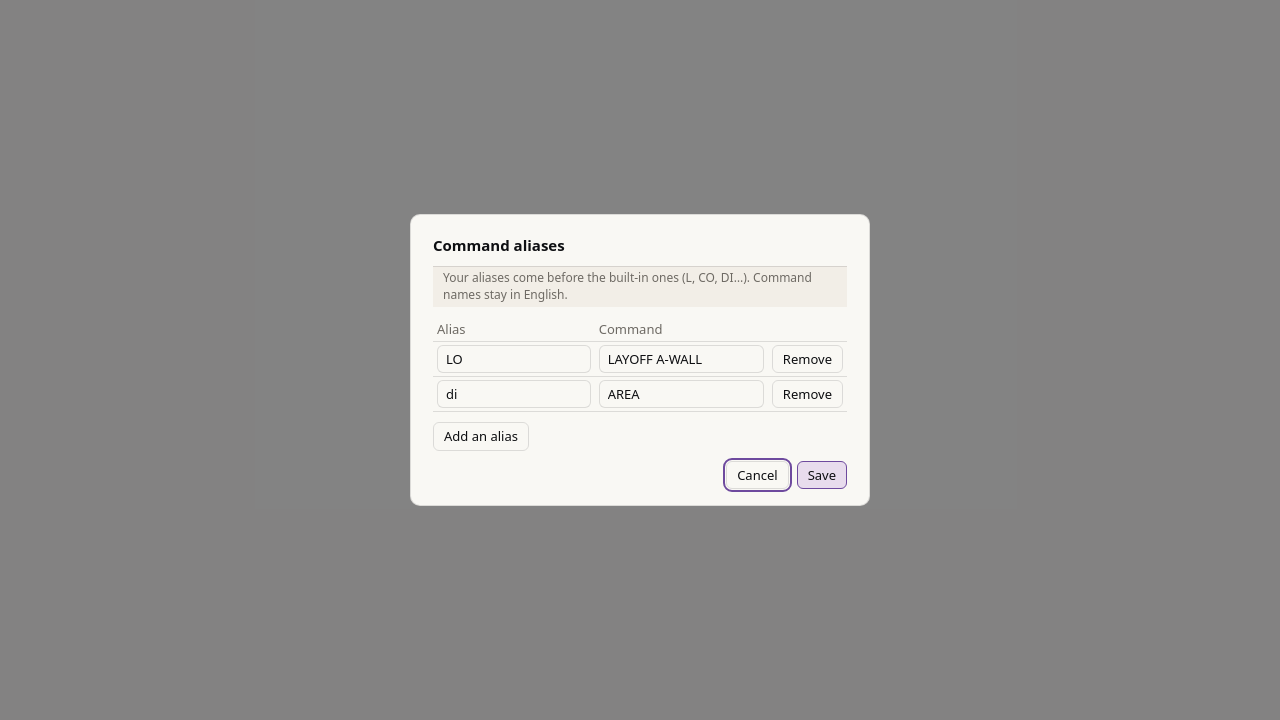
Test: an alias that is a command's own name, or one word short of a command, is refused
Expected: the field named "Alias 1" is shown, [437,345,591,373]
Replace the text in the field named "Alias 2" with "Line" at {"x": 514, "y": 394}, box [437,380,591,408]
Click the button "Save" at {"x": 822, "y": 475}, box [797,461,847,489]
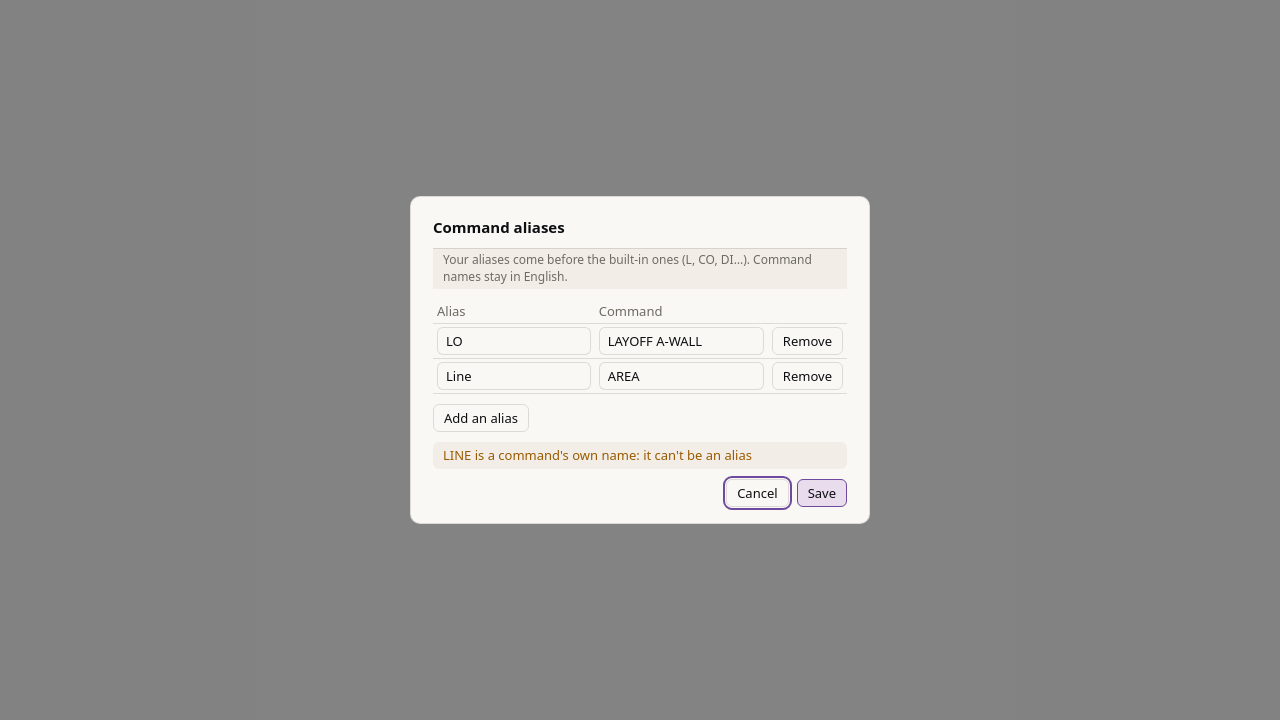
Expected: the message reads "LINE is a command's own name: it can't be an alias", [443,446,752,464]
Replace the text in the field named "Alias 2" with "L 2" at {"x": 514, "y": 376}, box [437,362,591,390]
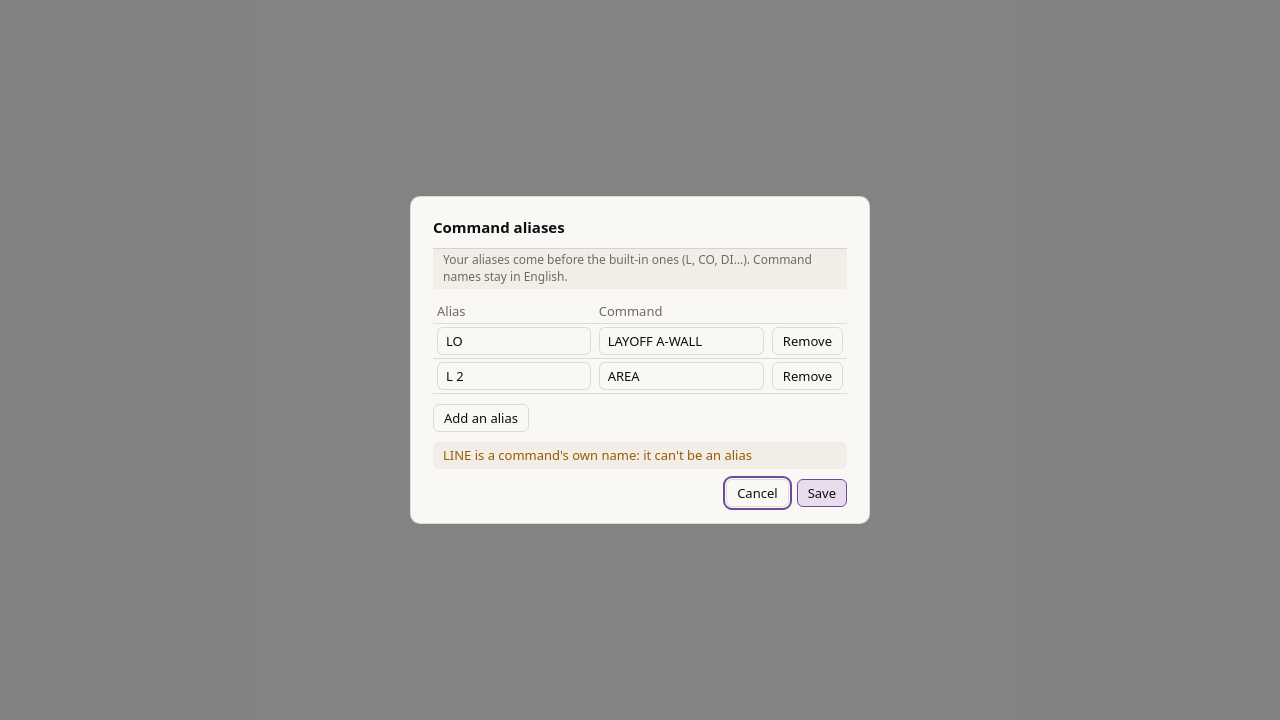
Click the button "Save" at {"x": 822, "y": 493}, box [797,479,847,507]
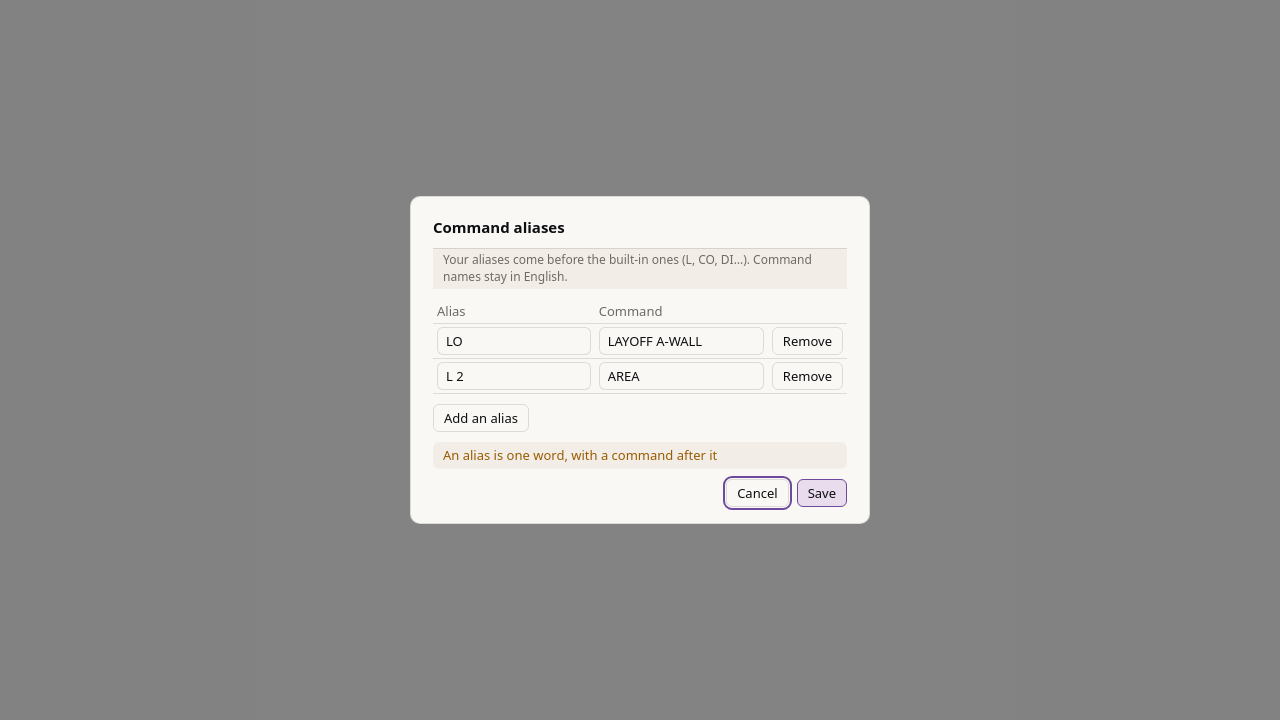
Expected: the message reads "An alias is one word, with a command after it", [443,446,717,464]
Replace the text in the field named "Alias 2" with "X2" at {"x": 514, "y": 376}, box [437,362,591,390]
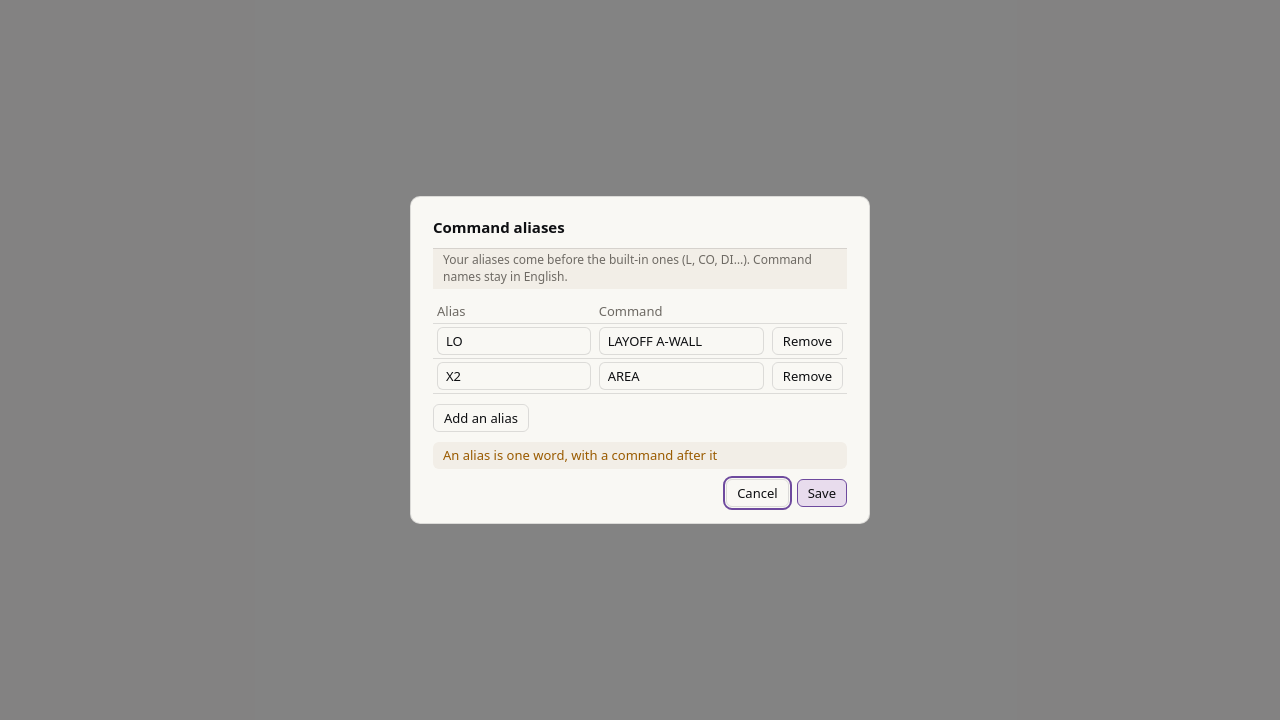
Replace the text in the field named "Command 2" with "NOSUCH 3" at {"x": 681, "y": 376}, box [599,362,764,390]
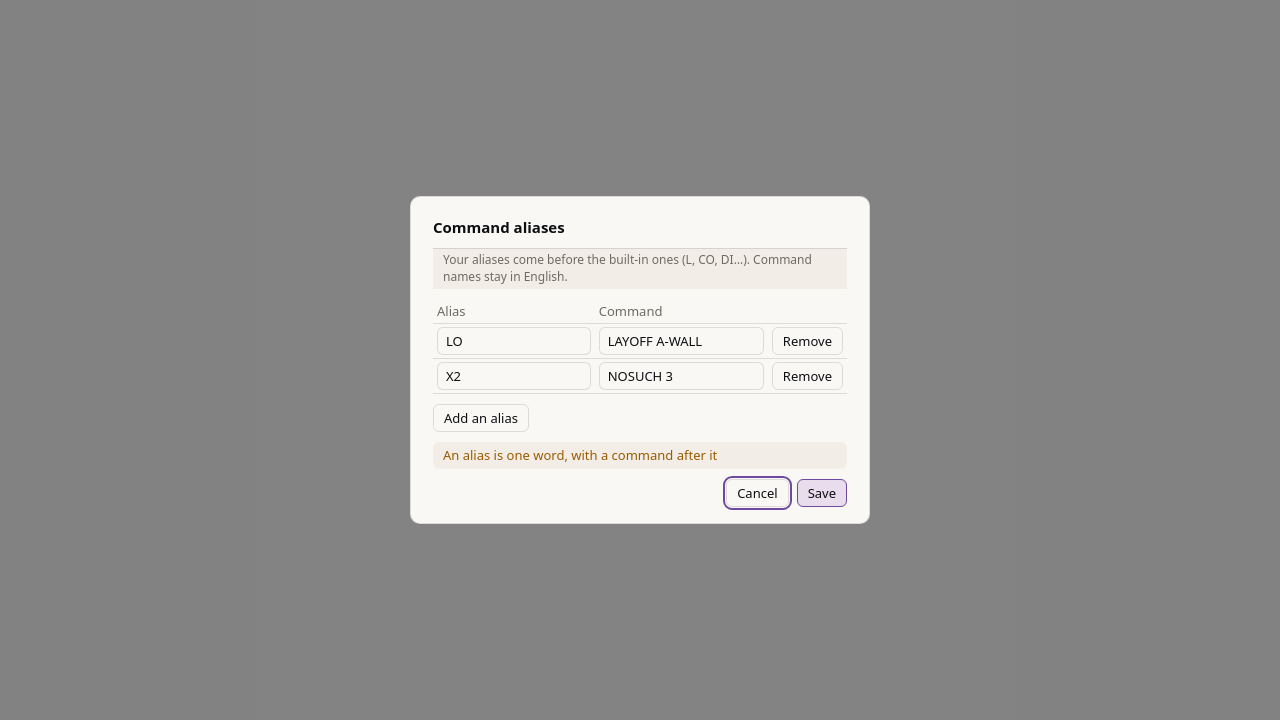
Click the button "Save" at {"x": 822, "y": 493}, box [797,479,847,507]
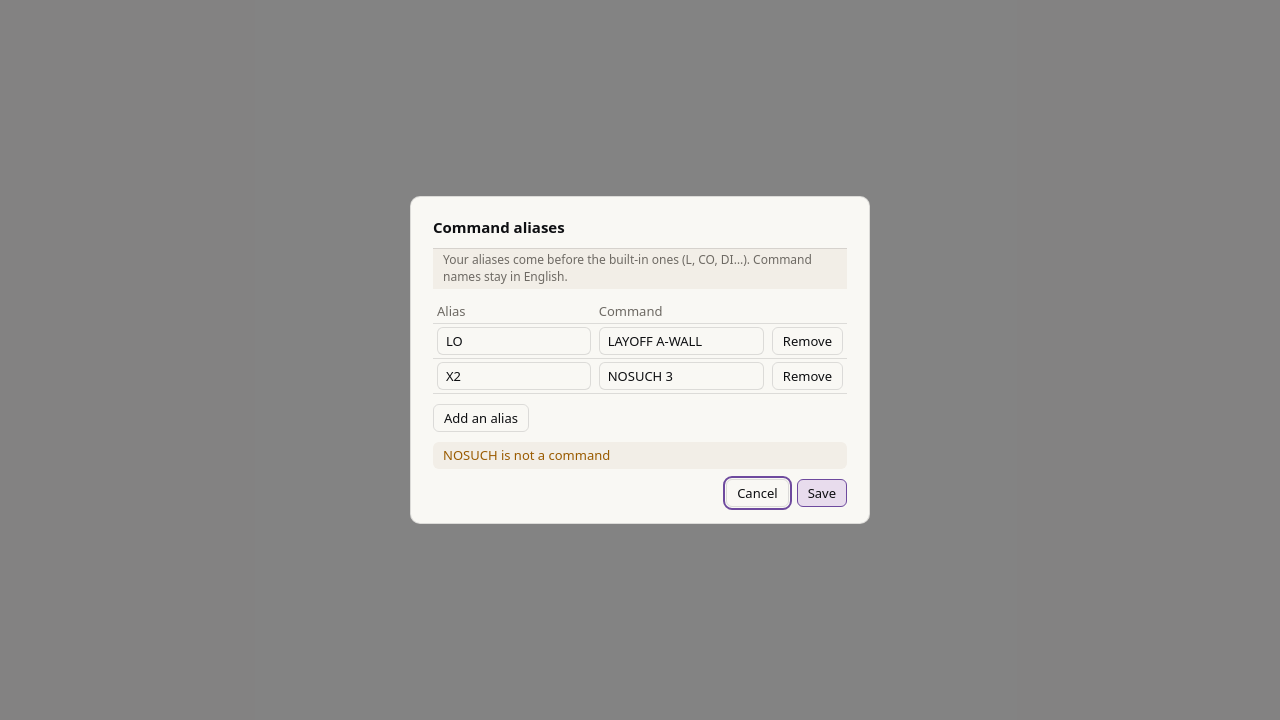
Expected: the message reads "NOSUCH is not a command", [443,446,610,464]
